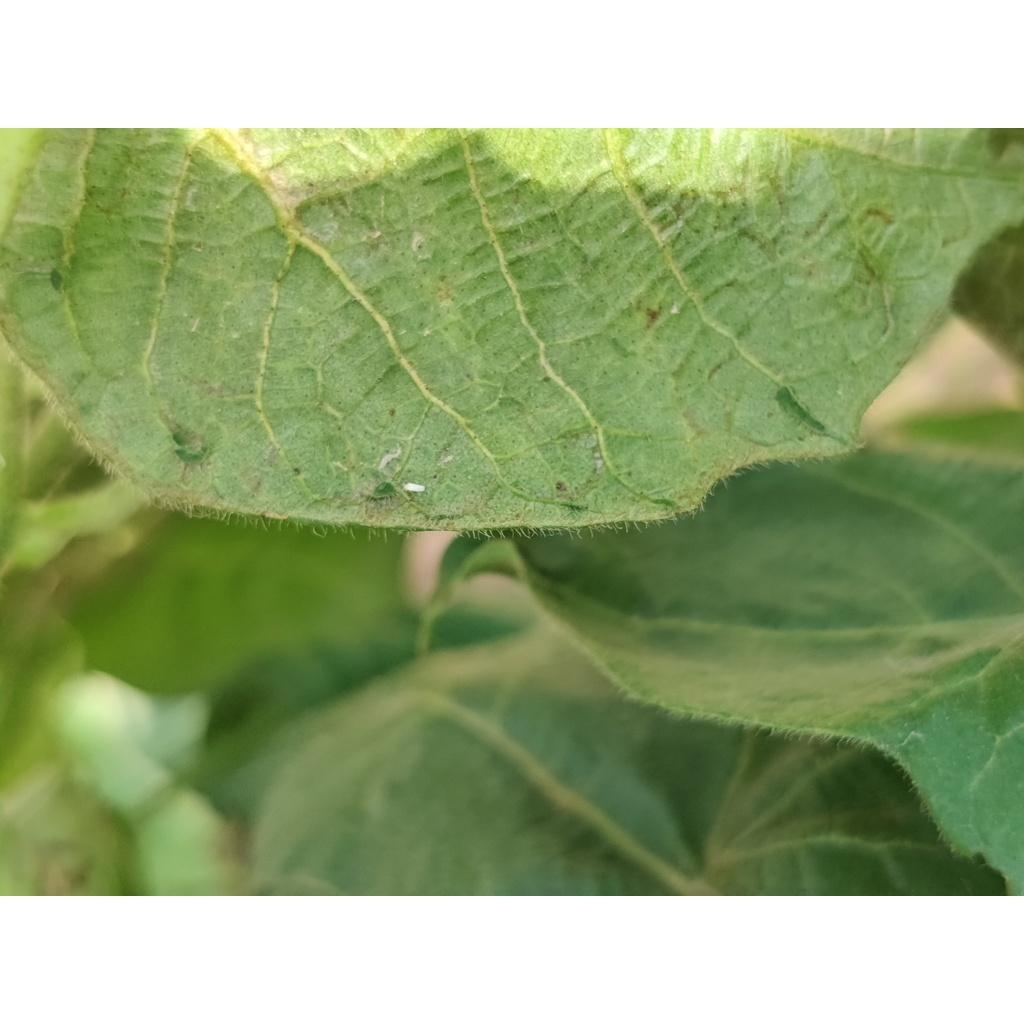adult: (404, 483, 426, 493)
